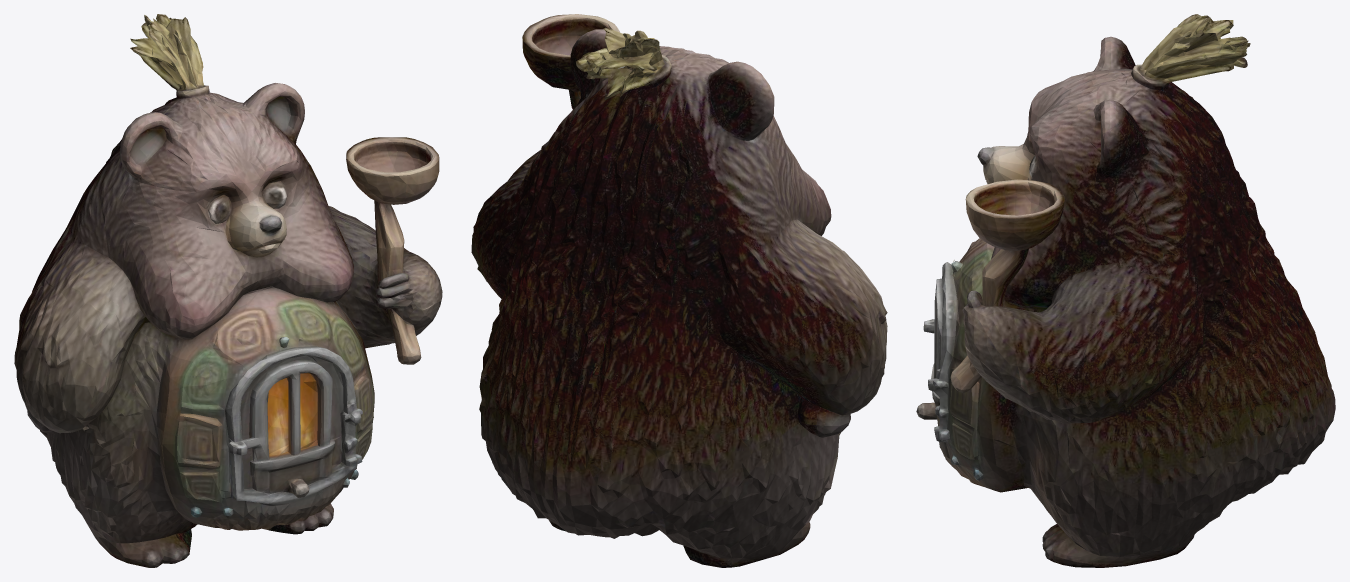
The model's file is hearthkin.glb.
The picture shows the model from 3 angles, left to right: view 1: azimuth 30°, elevation 25°; view 2: azimuth 150°, elevation 25°; view 3: azimuth 270°, elevation 25°; orthographic projection. The views are drawn at different scales.
Parts seen in each view (by area): view 1: world; view 2: world; view 3: world.
Boxes of the visible parts, x1,y1,x2,y2 form: world: [14, 14, 442, 567]; world: [471, 14, 887, 567]; world: [916, 14, 1335, 567].
Bounding box in the file's own units: 0.8353 × 0.9983 × 0.7683.
Materials: 1 (1 with a texture image).
